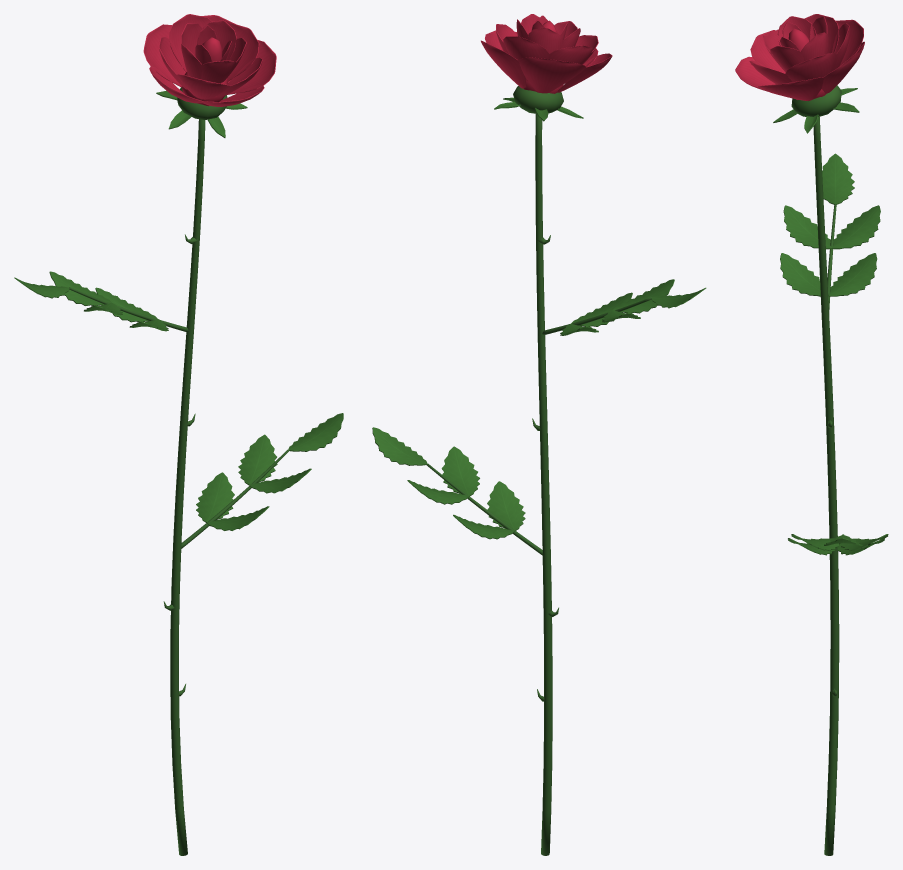
File: hq_medicinal_fire_cc0_drawmerged.glb
3 renders of one model, left to right at view 1: azimuth 30°, elevation 25°; view 2: azimuth 150°, elevation 25°; view 3: azimuth 270°, elevation 25°, orthographic.
Parts seen in each view (by area): view 1: Rose Rose enclosed inner bud, Cut stem, Rose compound leaf 1 leaflet 1; view 2: Cut stem, Rose compound leaf 1 leaflet 1, Rose Rose enclosed inner bud; view 3: Rose Rose enclosed inner bud, Cut stem, Rose compound leaf 1 leaflet 1.
Boxes of the visible parts, x1,y1,x2,y2 form: Rose Rose enclosed inner bud: [143, 14, 276, 106]; Cut stem: [69, 87, 288, 855]; Rose compound leaf 1 leaflet 1: [14, 90, 343, 530]; Cut stem: [426, 86, 651, 855]; Rose compound leaf 1 leaflet 1: [372, 97, 706, 539]; Rose Rose enclosed inner bud: [481, 14, 612, 93]; Rose Rose enclosed inner bud: [735, 14, 864, 100]; Cut stem: [791, 85, 843, 855]; Rose compound leaf 1 leaflet 1: [773, 88, 888, 555].
Bounding box in the file's own units: 0.2065 × 0.4933 × 0.0817.
Materials: 3 (3 with a texture image).
